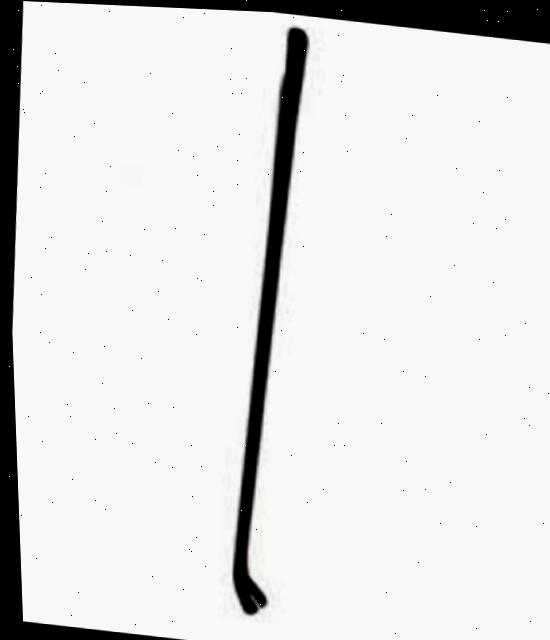crow bar: (195, 16, 336, 625)
